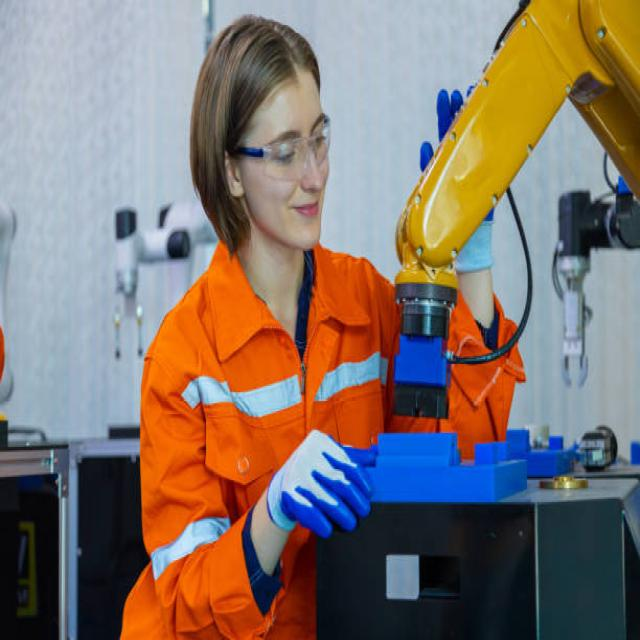Robotic-arm: (390, 0, 640, 430)
